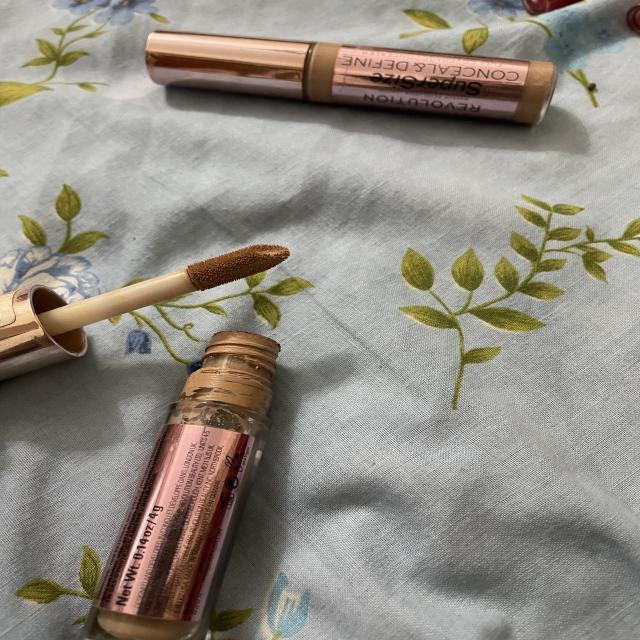concealer: (64, 213, 310, 640), (130, 16, 576, 152), (0, 216, 318, 386)
